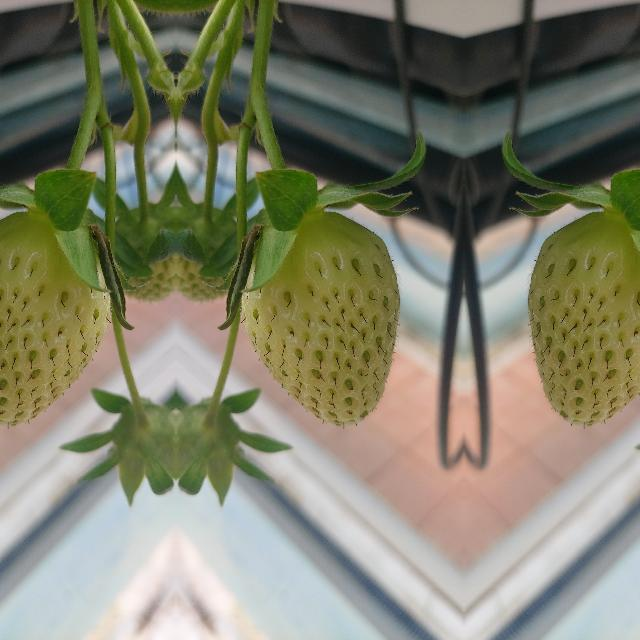Health_25: (240, 212, 400, 424), (526, 211, 640, 424), (0, 211, 109, 424)
